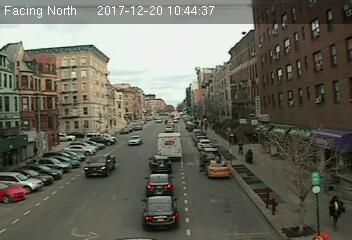car: (139, 194, 181, 231), (84, 153, 113, 177), (144, 173, 174, 196), (205, 158, 230, 179), (148, 153, 171, 171), (128, 135, 142, 146)
pedestrian: (327, 195, 346, 231)
truck: (156, 133, 183, 160)
